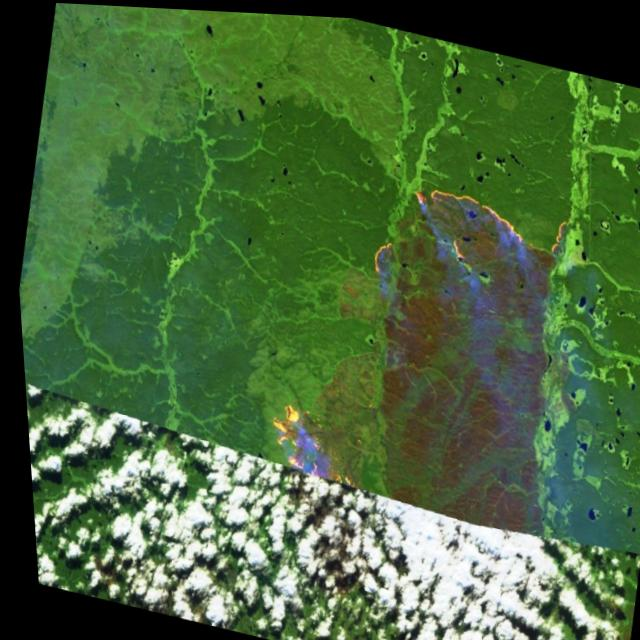fire: (231, 137, 620, 572)
